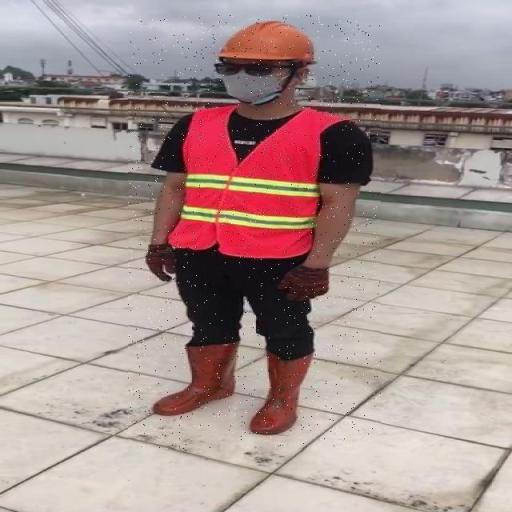Boots: (152, 340, 243, 417), (250, 354, 313, 436)
Helmet: (215, 15, 320, 68)
Person: (128, 17, 381, 449)
